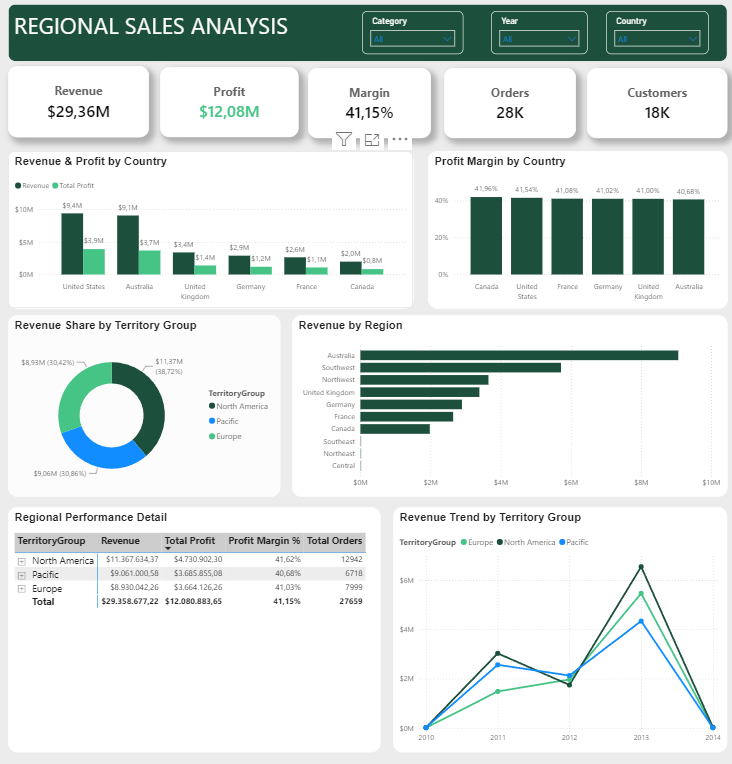

The dashboard page shown, as its layout file describes it:
{"tool":"powerbi","page":{"name":"Regional Sales","canvas":[1400,1300],"ordinal":2},"visuals":[{"type":"textbox","box":[14,10,1199,96],"z":0},{"type":"slicer","fields":{"Values":["Dim_Date.Year"]},"box":[818,22,161.1,72.2],"z":1000},{"type":"slicer","fields":{"Values":["Dim_Product.Category"]},"box":[604,22,168.9,72.2],"z":2000},{"type":"slicer","fields":{"Values":["Dim_Territory.Country"]},"box":[1010,22,171.1,72.2],"z":3000},{"type":"cardVisual","fields":{"Data":["Sum(Fact_InternetSales.SalesAmount)"]},"box":[13,114,235,119],"z":4000},{"type":"cardVisual","fields":{"Data":["_Measures.Total Profit"]},"box":[266,115,231,117],"z":5000},{"type":"cardVisual","fields":{"Data":["_Measures.Profit Margin %"]},"box":[514,116,205,117],"z":6000},{"type":"cardVisual","fields":{"Data":["_Measures.Total Orders"]},"box":[740,116,220,117.1],"z":7000},{"type":"cardVisual","fields":{"Data":["_Measures.Total Customers"]},"box":[979,116,234,117],"z":8000},{"type":"clusteredColumnChart","title":"Revenue & Profit by Country","fields":{"Category":["Dim_Territory.Country"],"Y":["_Measures.Revenue","_Measures.Total Profit"]},"box":[12.9,254.3,675.7,262.9],"z":9000},{"type":"clusteredColumnChart","title":"Profit Margin by Country","fields":{"Category":["Dim_Territory.Country"],"Y":["_Measures.Profit Margin %"]},"box":[712.9,254.3,500,262.9],"z":10000},{"type":"clusteredBarChart","title":"Revenue by Region","fields":{"Category":["Dim_Territory.Region"],"Y":["_Measures.Revenue"]},"box":[487.1,528.6,725.7,302.9],"z":11000},{"type":"donutChart","title":"Revenue Share by Territory Group","fields":{"Category":["Dim_Territory.TerritoryGroup"],"Y":["_Measures.Revenue"]},"box":[12.9,528.6,454.3,302.9],"z":12000},{"type":"pivotTable","title":"Regional Performance Detail","fields":{"Rows":["Dim_Territory.TerritoryGroup","Dim_Territory.Country","Dim_Territory.Region"],"Values":["_Measures.Revenue","_Measures.Total Profit","_Measures.Profit Margin %","_Measures.Total Orders"]},"box":[13,849,621,409],"z":13000},{"type":"lineChart","title":"Revenue Trend by Territory Group","fields":{"Category":["Dim_Date.Year"],"Series":["Dim_Territory.TerritoryGroup"],"Y":["_Measures.Revenue"]},"box":[655.7,848.6,557.1,408.6],"z":14000}]}

Visuals, with their boxes on the page's 1400x1300 design canvas (x1, y1, x2, y2). These are canvas units, not pixel positions in the 732x764 screenshot, which may show the page scaled, cropped or inside an application window:
textbox: {"left": 14, "top": 10, "right": 1213, "bottom": 106}
slicer - Dim_Date.Year: {"left": 818, "top": 22, "right": 979, "bottom": 94}
slicer - Dim_Product.Category: {"left": 604, "top": 22, "right": 773, "bottom": 94}
slicer - Dim_Territory.Country: {"left": 1010, "top": 22, "right": 1181, "bottom": 94}
cardVisual - Sum(Fact_InternetSales.SalesAmount): {"left": 13, "top": 114, "right": 248, "bottom": 233}
cardVisual - _Measures.Total Profit: {"left": 266, "top": 115, "right": 497, "bottom": 232}
cardVisual - _Measures.Profit Margin %: {"left": 514, "top": 116, "right": 719, "bottom": 233}
cardVisual - _Measures.Total Orders: {"left": 740, "top": 116, "right": 960, "bottom": 233}
cardVisual - _Measures.Total Customers: {"left": 979, "top": 116, "right": 1213, "bottom": 233}
"Revenue & Profit by Country" clusteredColumnChart: {"left": 13, "top": 254, "right": 689, "bottom": 517}
"Profit Margin by Country" clusteredColumnChart: {"left": 713, "top": 254, "right": 1213, "bottom": 517}
"Revenue by Region" clusteredBarChart: {"left": 487, "top": 529, "right": 1213, "bottom": 832}
"Revenue Share by Territory Group" donutChart: {"left": 13, "top": 529, "right": 467, "bottom": 832}
"Regional Performance Detail" pivotTable: {"left": 13, "top": 849, "right": 634, "bottom": 1258}
"Revenue Trend by Territory Group" lineChart: {"left": 656, "top": 849, "right": 1213, "bottom": 1257}
